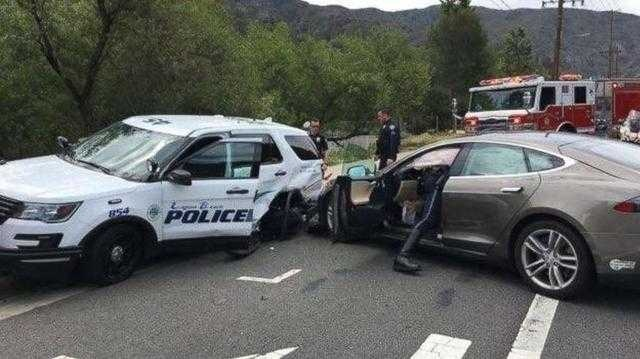Police Car: (0, 99, 357, 278)
